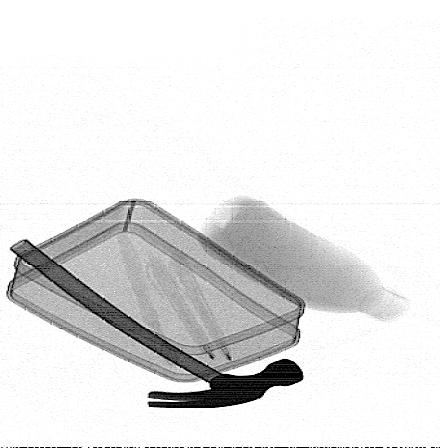Hammer: (10, 238, 305, 409)
